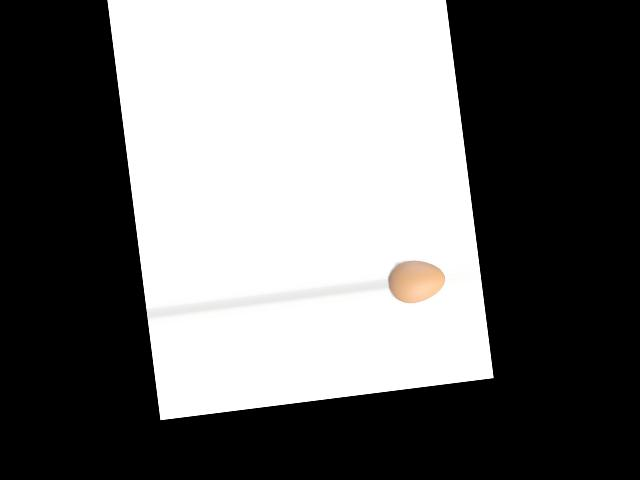egg: (386, 256, 446, 305)
